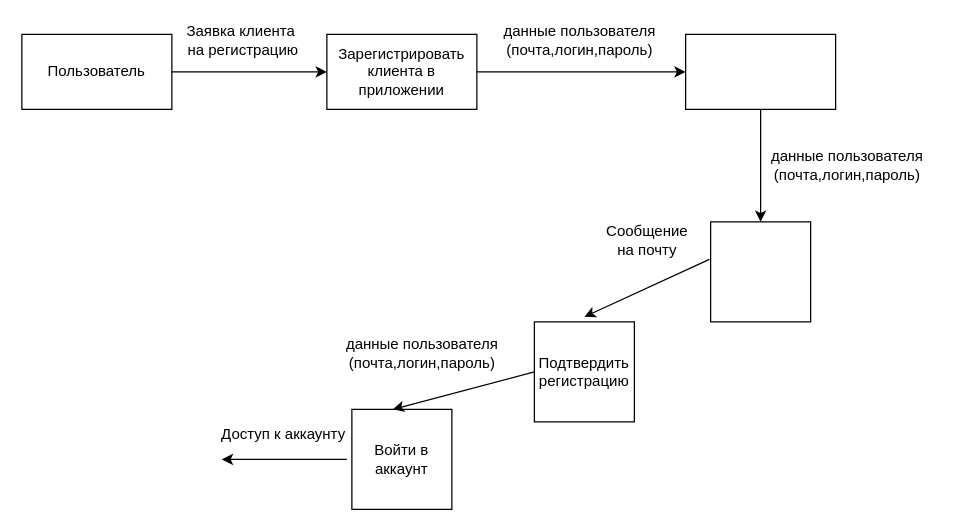
This 956x531 diagram has some shape labels left out. The shapes that lost their labels are listed below. From the top down, each one's centre as x and y in pixels, then its label:
the point at 760,71: Проверить уникальность логина
the point at 760,271: Занести в БД
